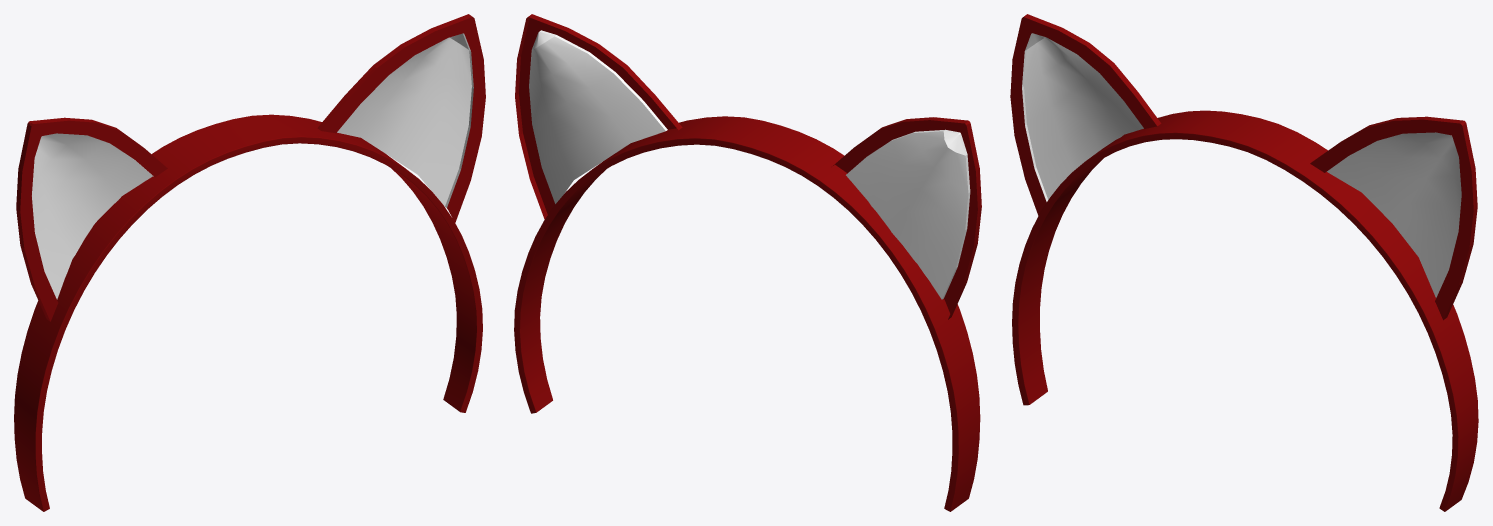
Rendered from Cat_Ear_HeadBand.fbx.
The picture shows the model from 3 angles, left to right: view 1: azimuth 30°, elevation 25°; view 2: azimuth 150°, elevation 25°; view 3: azimuth 330°, elevation 25°; orthographic projection.
Parts seen in each view (by area): view 1: Cat_ear_headband; view 2: Cat_ear_headband; view 3: Cat_ear_headband.
Part boxes in pixels (x1,y1,x2,y2): Cat_ear_headband: [14, 14, 485, 511]; Cat_ear_headband: [514, 14, 981, 511]; Cat_ear_headband: [1010, 14, 1478, 511].
Bounding box in the file's own units: 3.8 × 3.04 × 0.4326.
1 material, 1 textured.
